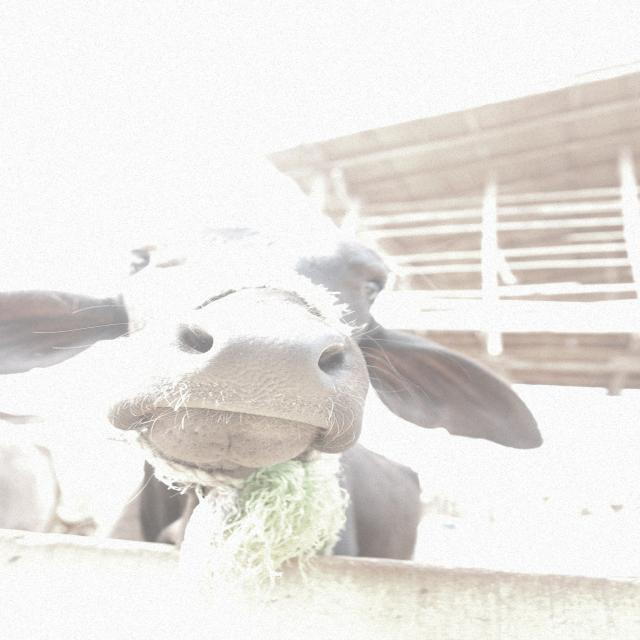muzzles: (151, 307, 357, 438)
